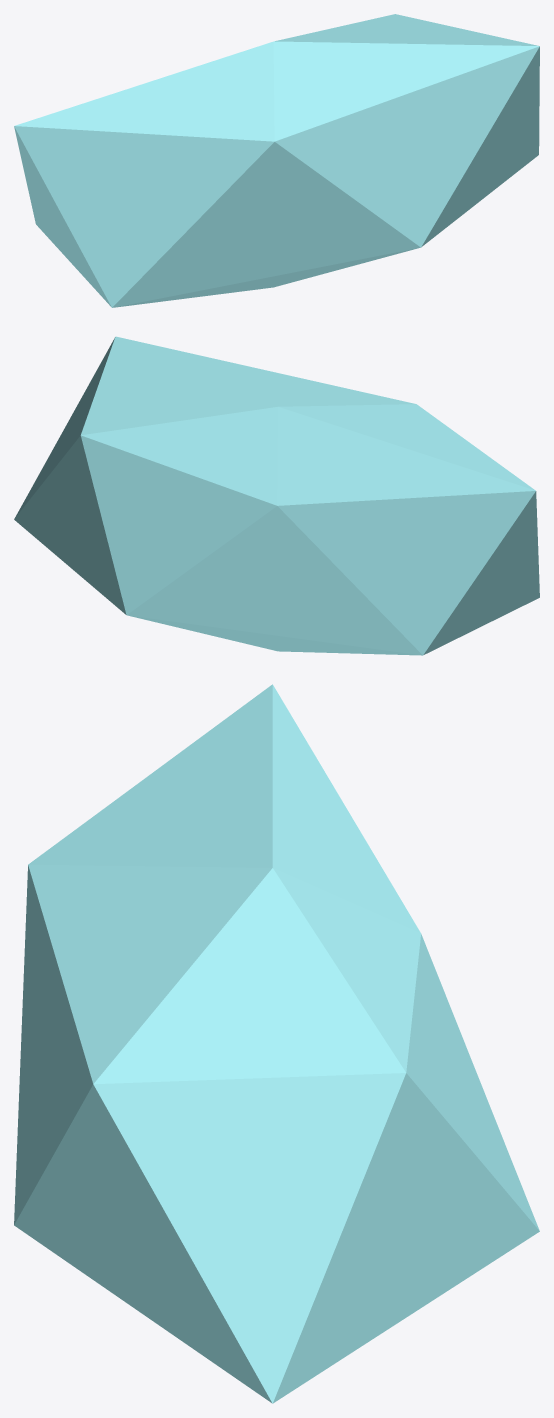
File: PlasmaBombShard.fbx
3 views of the same model, one above another, from view 1: azimuth 30°, elevation 25°; view 2: azimuth 150°, elevation 25°; view 3: azimuth 270°, elevation 25° (orthographic). The views are drawn at different scales.
Visible parts, largest first — view 1: shard_plasma; view 2: shard_plasma; view 3: shard_plasma.
Part boxes in pixels (x1,y1,x2,y2): shard_plasma: (14,14,539,307); shard_plasma: (14,336,539,655); shard_plasma: (14,684,539,1403).
Size of the model in its own units: 0.2595 by 0.1162 by 0.1293.
